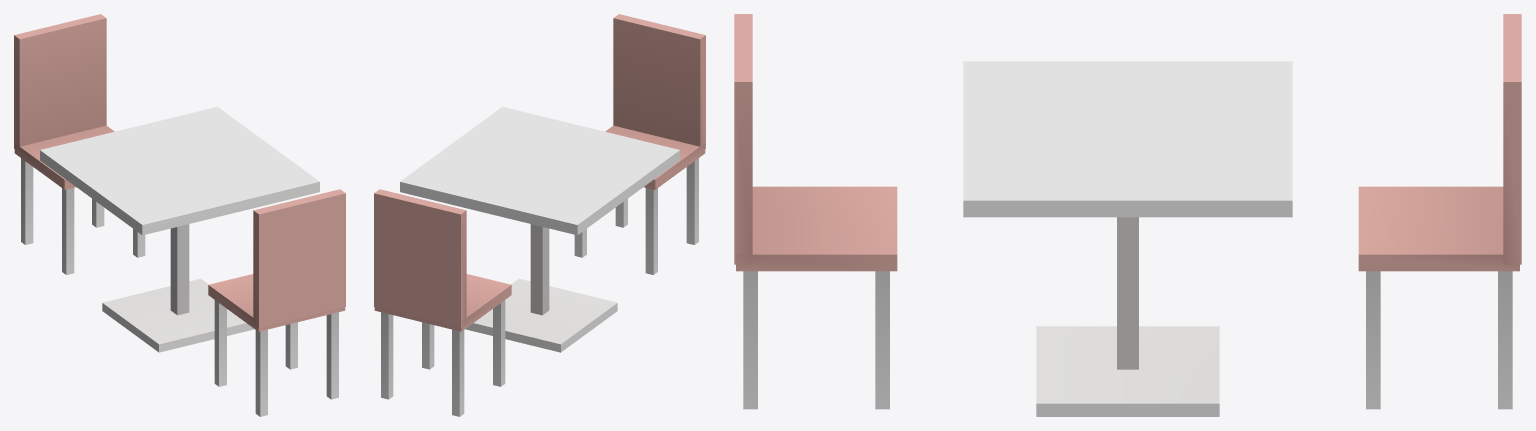
Rendered from Prop_CafeSet.fbx.
The picture shows the model from 3 angles, left to right: view 1: azimuth 30°, elevation 25°; view 2: azimuth 150°, elevation 25°; view 3: azimuth 270°, elevation 25°; orthographic projection. The views are drawn at different scales.
Visible parts, largest first — view 1: Prop_CafeSet; view 2: Prop_CafeSet; view 3: Prop_CafeSet.
Part boxes in pixels (x1,y1,x2,y2): Prop_CafeSet: (14,14,345,416); Prop_CafeSet: (374,14,705,416); Prop_CafeSet: (734,14,1521,416).
Size of the model in its own units: 0.9 by 0.995 by 2.15.
